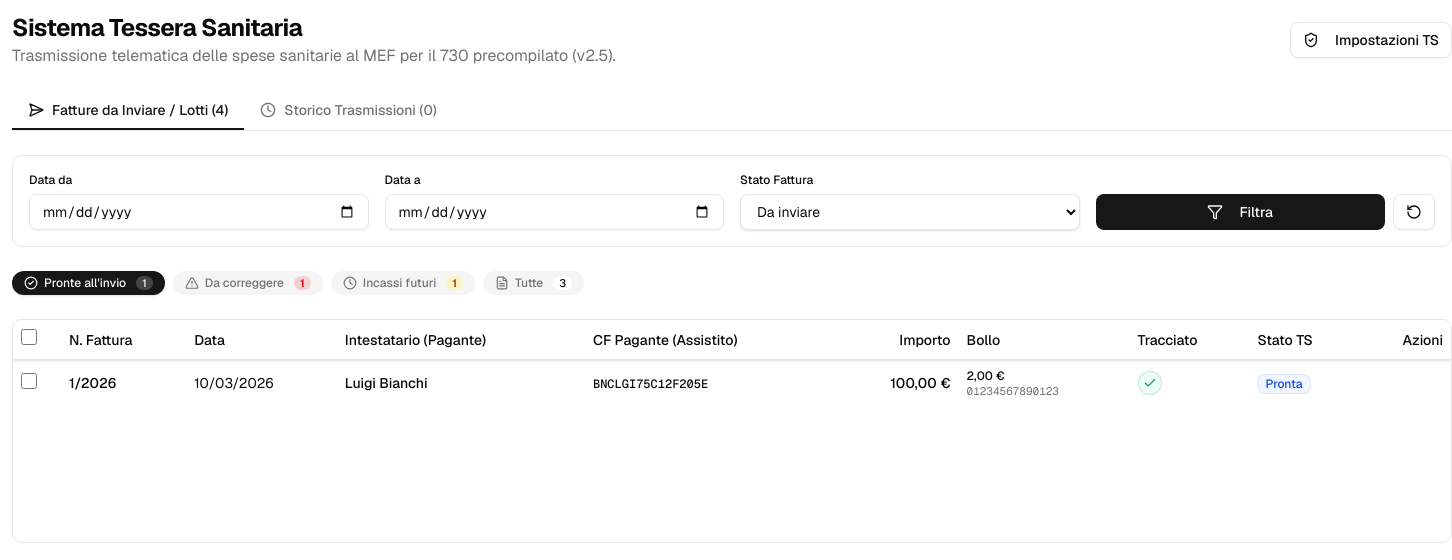
it: SistemaTsManager › renderizza l'intestazione, le pillole di navigazione e i badge della tabella
This screenshot has width=1452, height=560.
Check: the heading "Sistema Tessera Sanitaria" is shown, box [12,12,302,43]
Check: the button "Pronte all'invio 1" is shown, box [12,271,165,295]
Cliccando sulla pillola "Tutte", compaiono anche Mario Rossi e Marco Neri
Click the button "Tutte 3" at (534, 283), box [483,271,584,295]
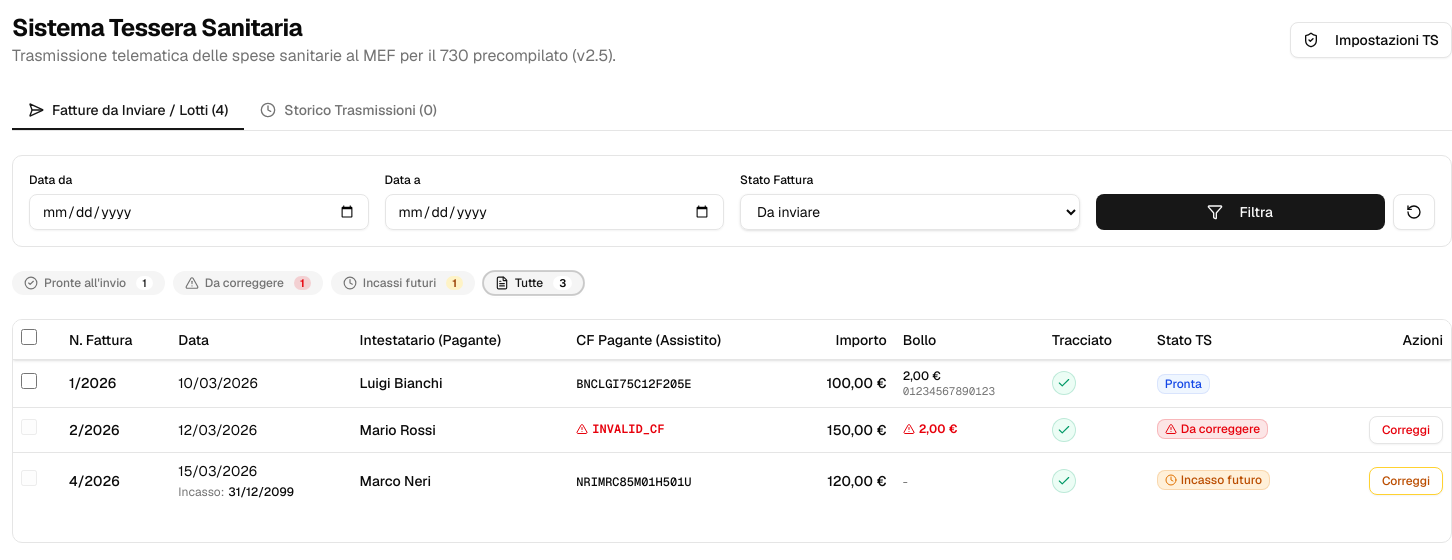
Check: the text "Mario Rossi" is shown, box [360,421,436,439]
Check: the text "Marco Neri" is shown, box [360,472,431,490]
